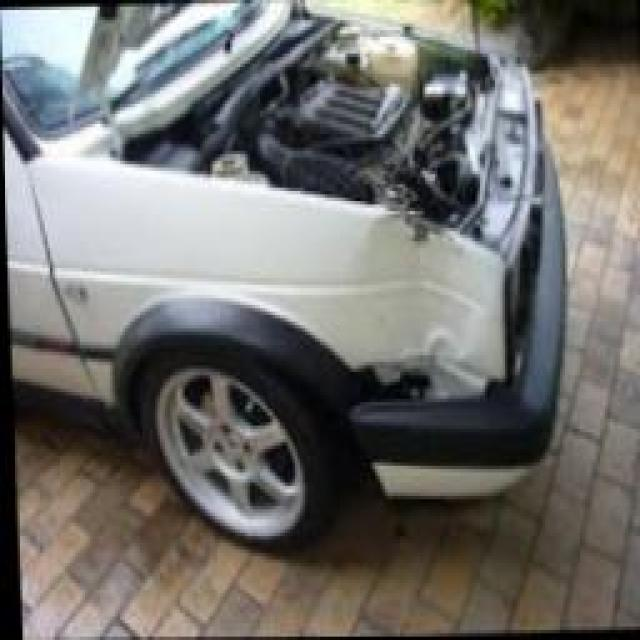Fender: (313, 205, 504, 403)
